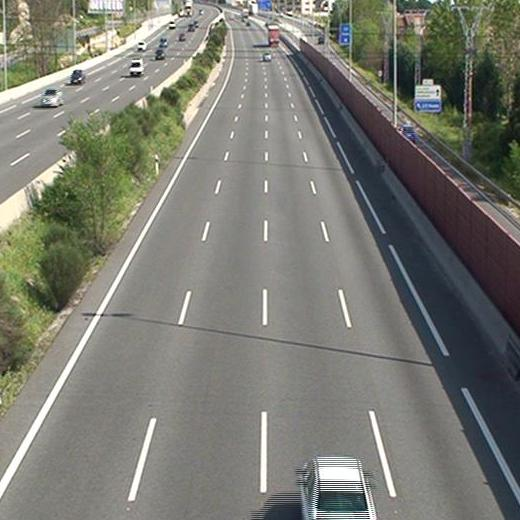car: (300, 457, 377, 520), (262, 52, 271, 61)
